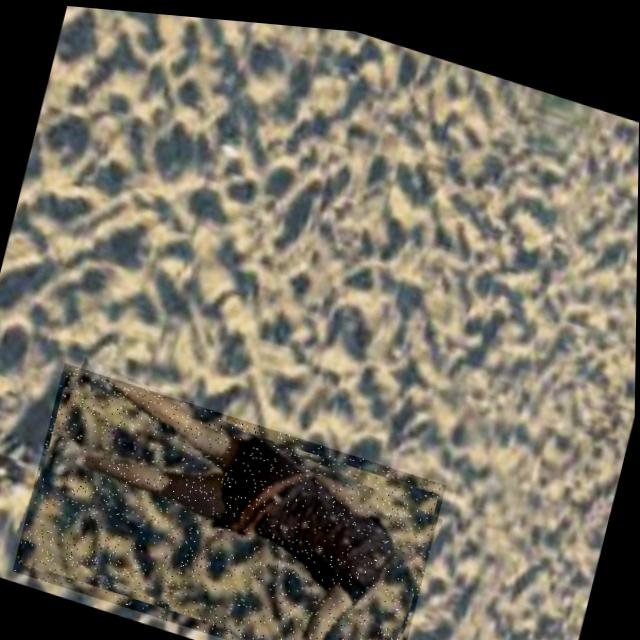Person in Rubble: (12, 357, 447, 640)
